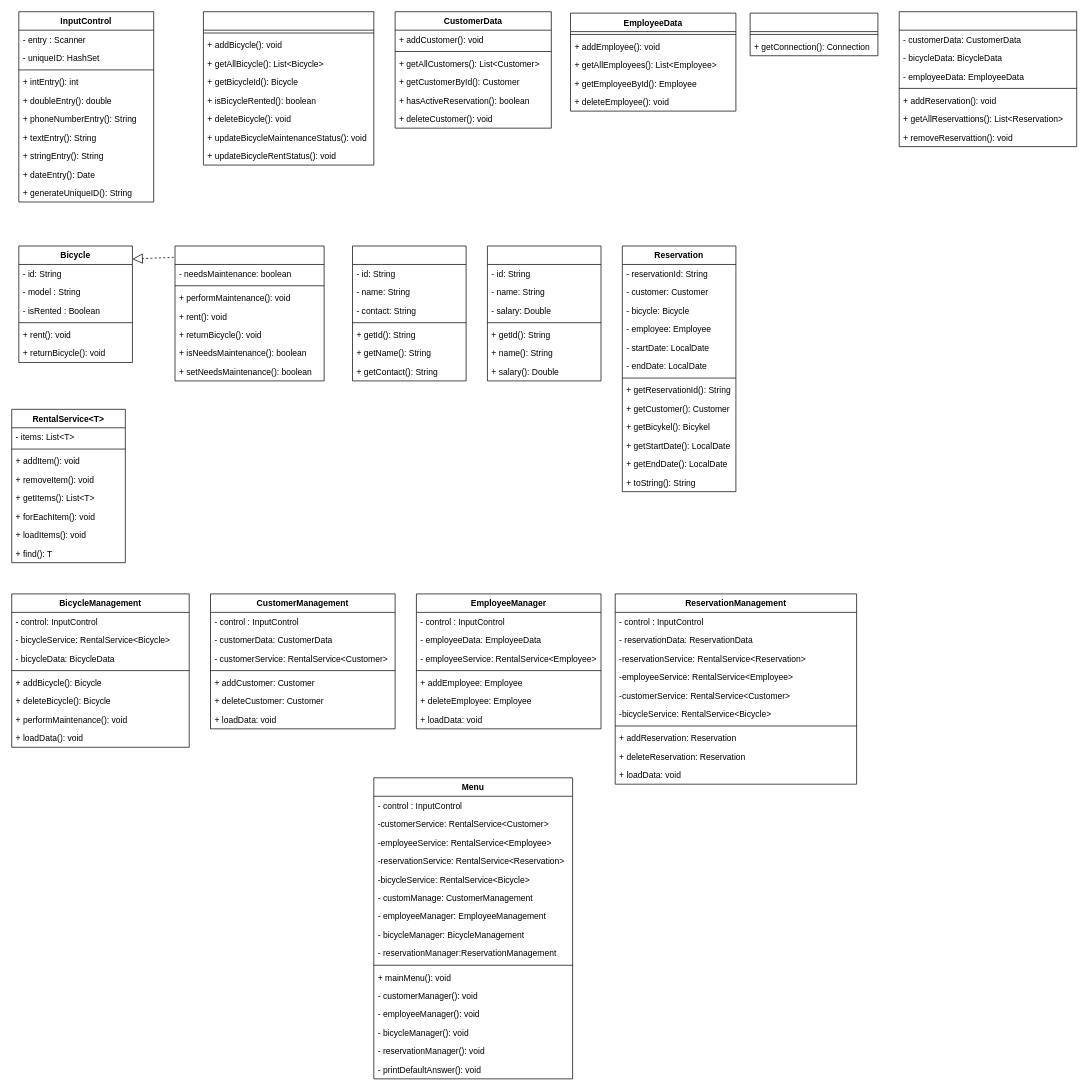
Some shapes in this 1088 by 1091 pixel diagram are drawn without their labels. The box of each missing label's shape, as (x1, y1, x2, y2) in pixels:
BicycleData: (203, 11, 374, 165)
Customer: (352, 245, 466, 381)
DatabaseConnection: (749, 12, 878, 56)
Employee: (487, 245, 601, 381)
MountainBike: (174, 245, 324, 381)
ReservationData: (899, 11, 1077, 147)
